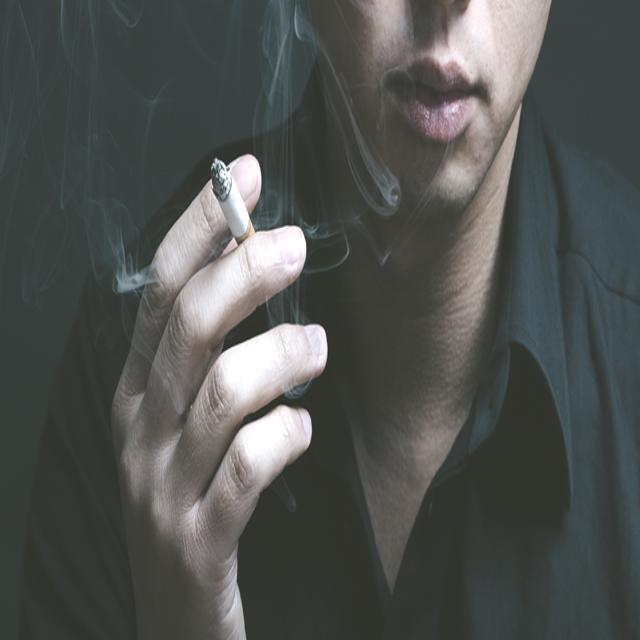cigarette: (210, 148, 258, 252)
